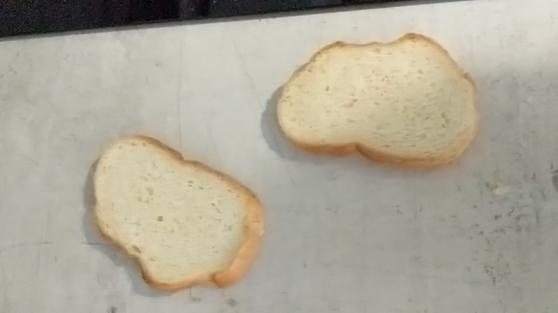white_bread: (92, 135, 266, 291), (277, 31, 481, 162)
